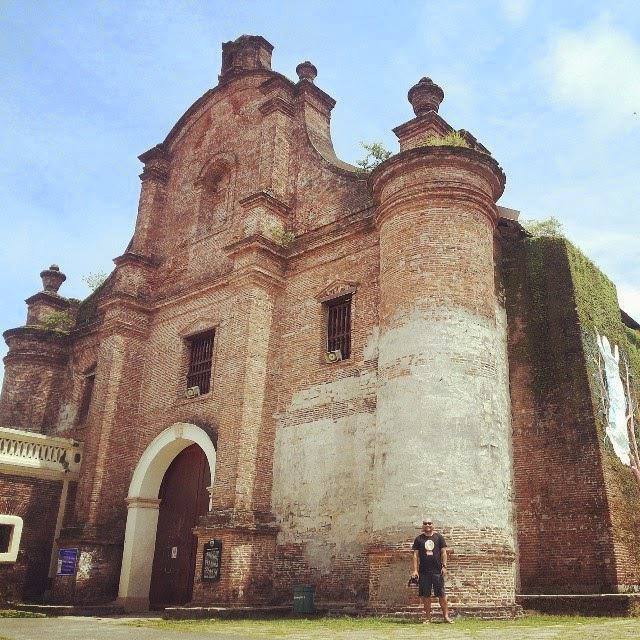santa_maria_church_santa_maria_ilocos_sur: (4, 25, 521, 629)
unfinished_paint: (269, 300, 522, 560)
water_damage_or_mold: (565, 259, 620, 331), (529, 249, 554, 311)
